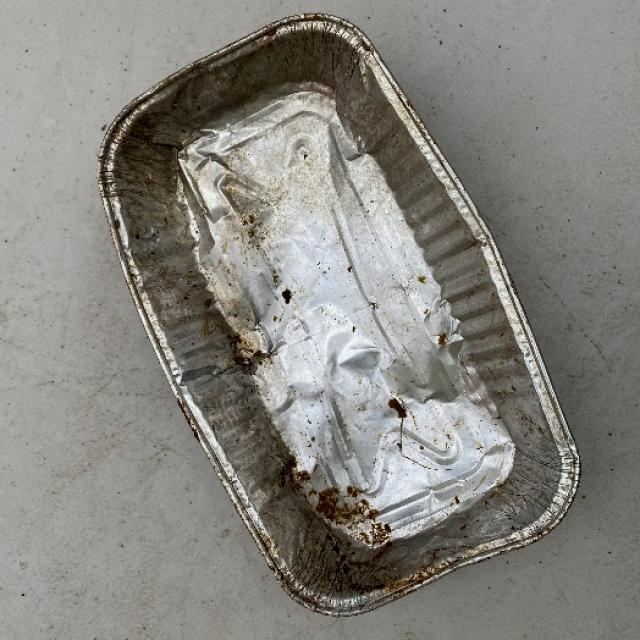inorganic: (134, 21, 585, 616)
